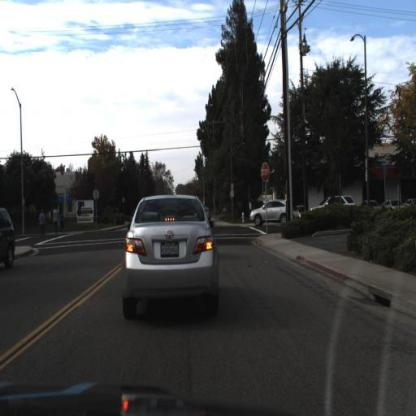car: (123, 191, 216, 316), (1, 204, 21, 269), (251, 197, 292, 227), (313, 195, 355, 220)
pedestrian: (39, 204, 48, 239), (53, 205, 62, 236), (53, 205, 61, 236)
